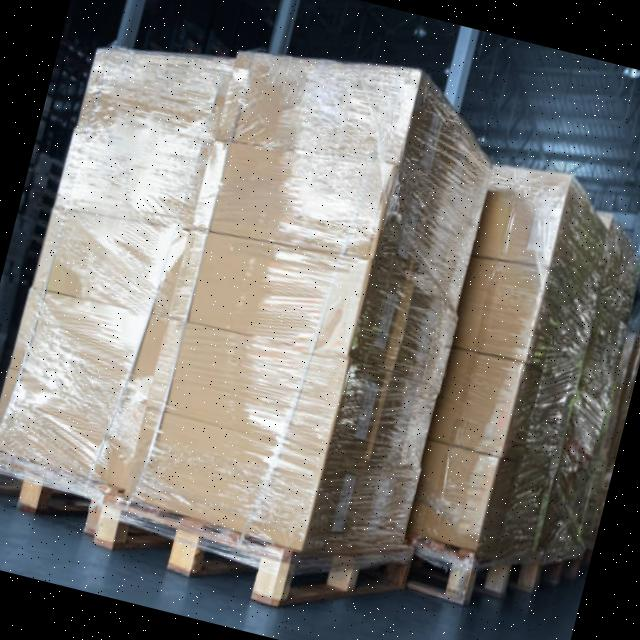Wooden-Pallets: (94, 482, 412, 617), (406, 525, 540, 624), (0, 444, 107, 554)
